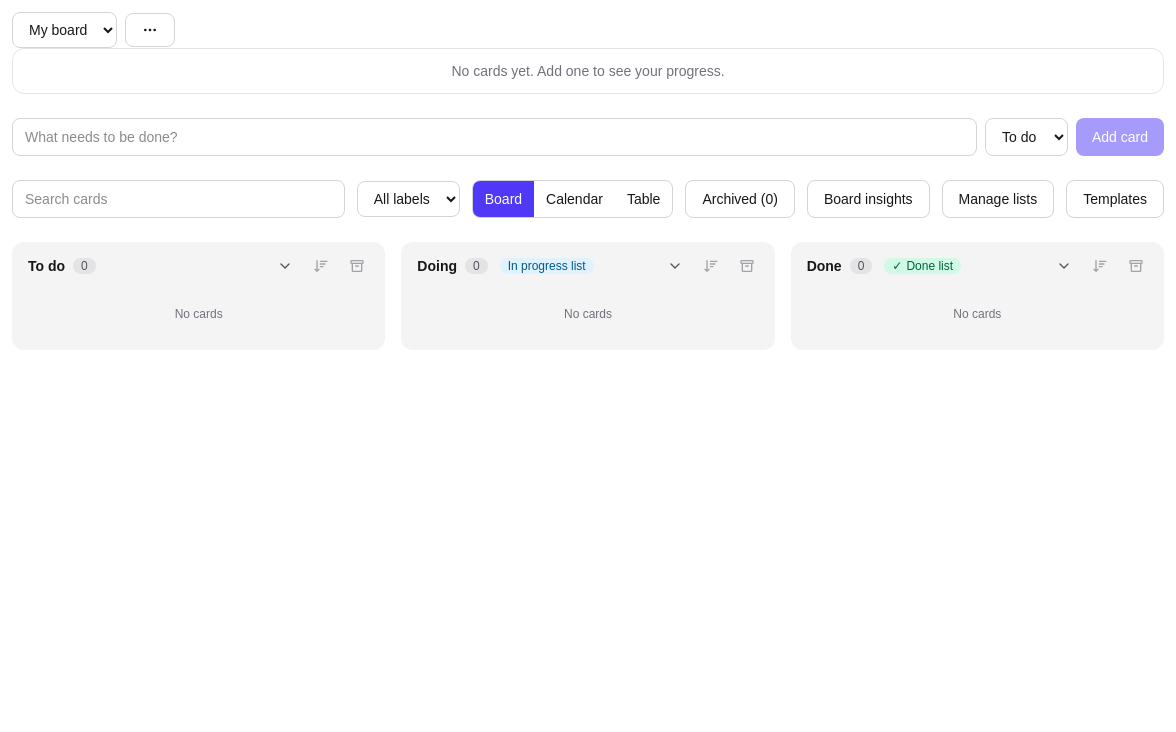
<BoardSwitcher /> › copy as Markdown › shows the Markdown when the clipboard API is missing
Click the button named "Board actions".
click(150, 30)  # box [125,13,175,47]
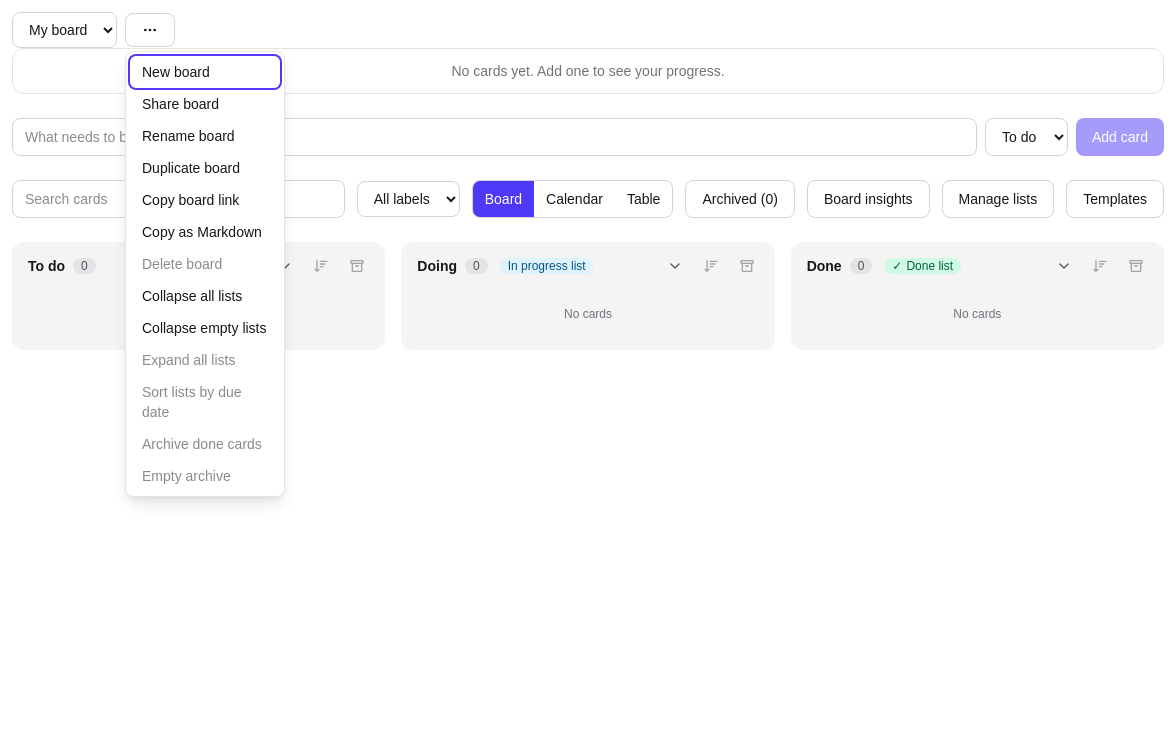
Click the menu item "Copy as Markdown".
click(205, 232)  # box [130,216,280,248]
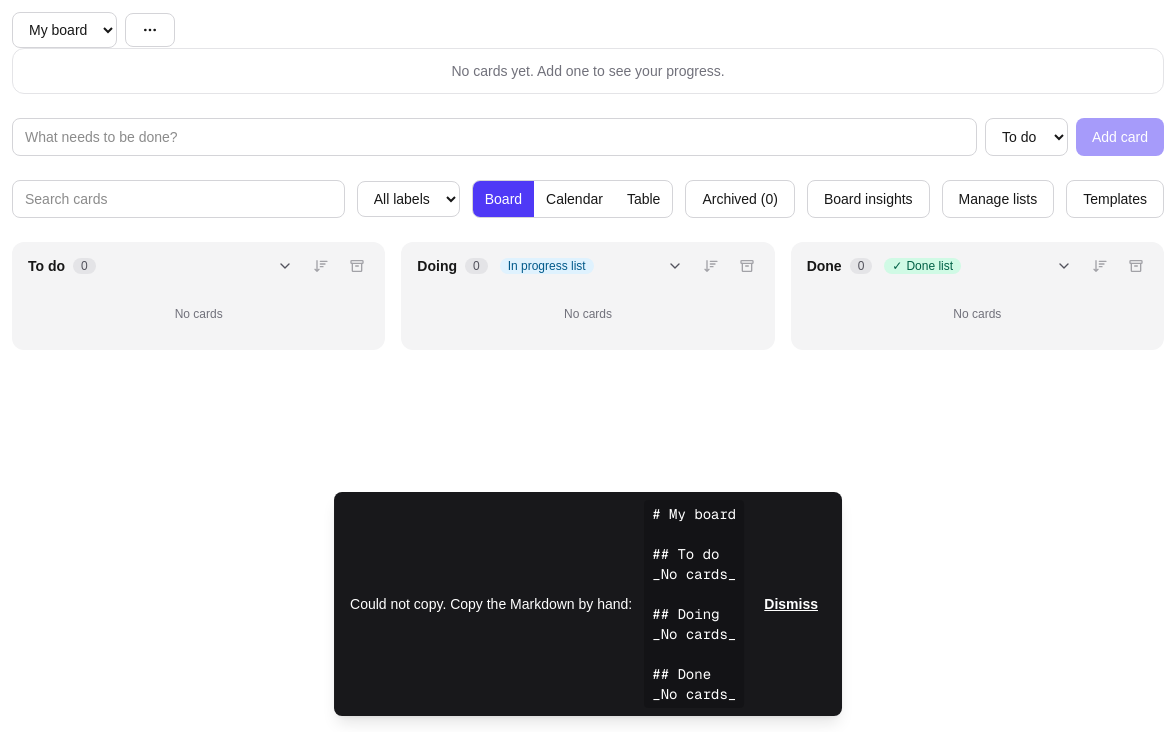
Check: the message shows "# My board", box [652,505,736,703]
